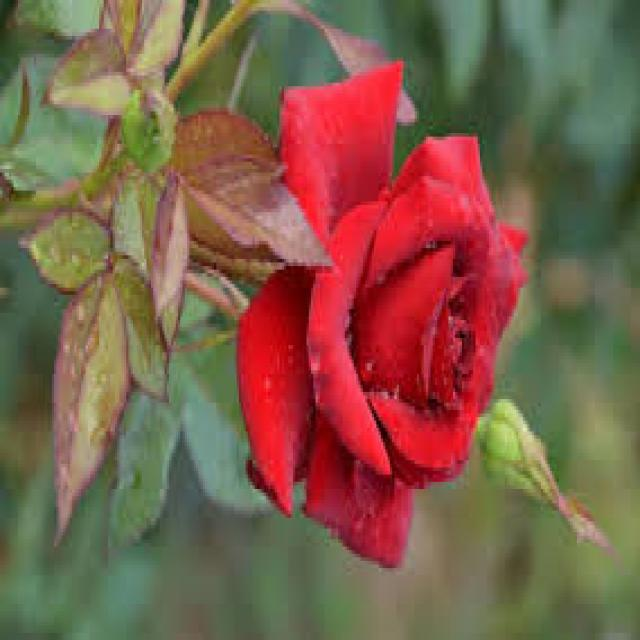rose: (240, 56, 499, 608)
